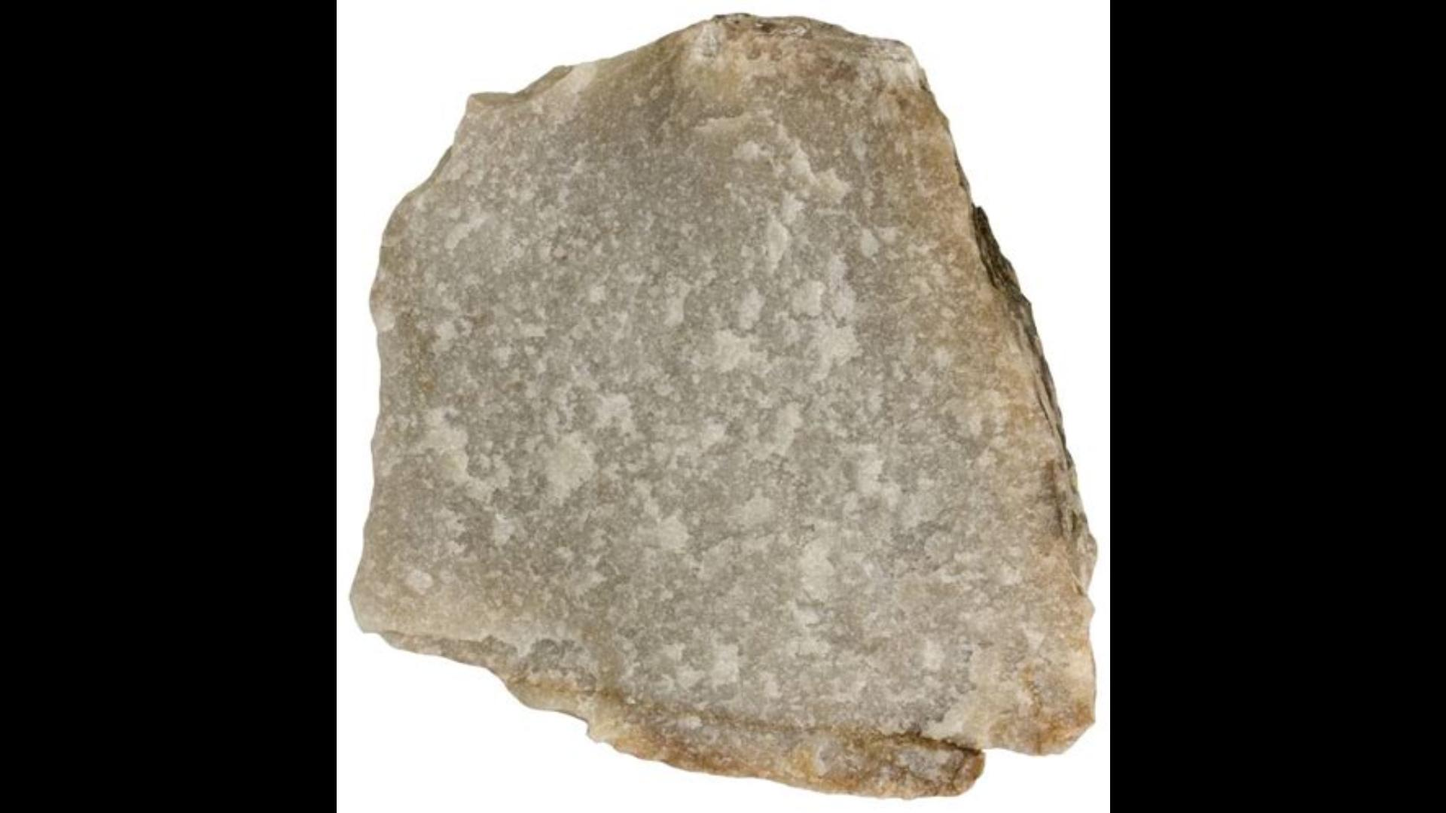rock: (362, 16, 1092, 792)
